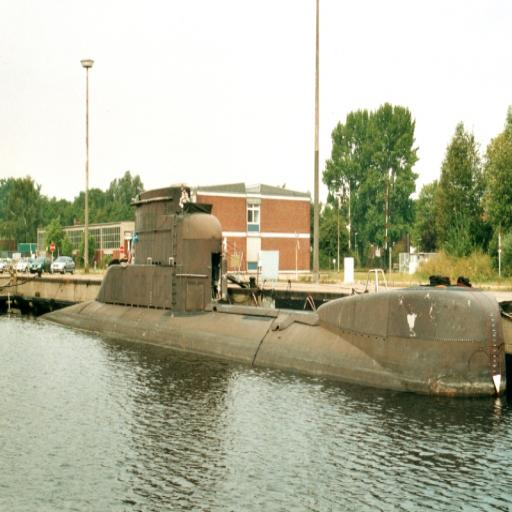submarine: (38, 182, 511, 392)
